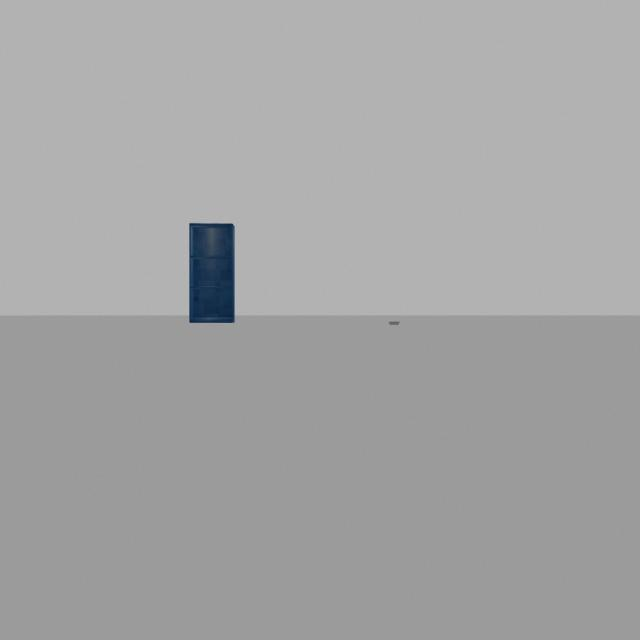bowl: (387, 314, 402, 331)
shelf: (184, 207, 242, 336)
